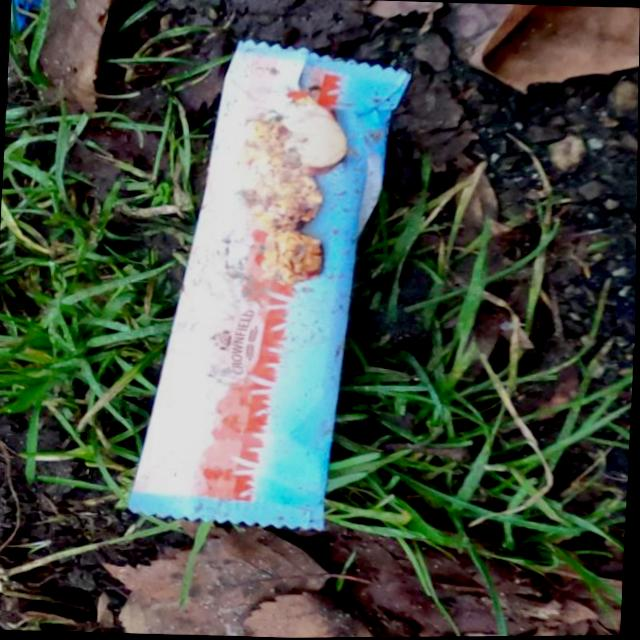Plastic: (125, 33, 419, 536)
